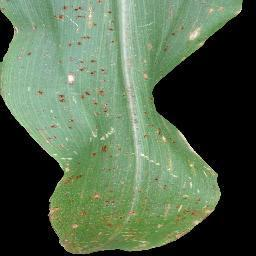Corn_Common_Rust: (46, 164, 226, 256), (52, 53, 132, 159), (54, 2, 122, 49), (133, 91, 186, 144), (187, 22, 202, 51), (136, 150, 164, 164), (205, 4, 229, 19), (15, 47, 40, 61), (141, 63, 156, 85), (165, 23, 188, 35), (35, 82, 49, 100), (159, 39, 174, 55), (142, 38, 158, 52), (1, 3, 13, 17), (44, 132, 53, 148), (12, 23, 27, 32), (32, 21, 41, 34)
